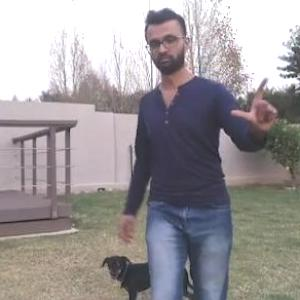land_hand: (231, 70, 287, 133)
